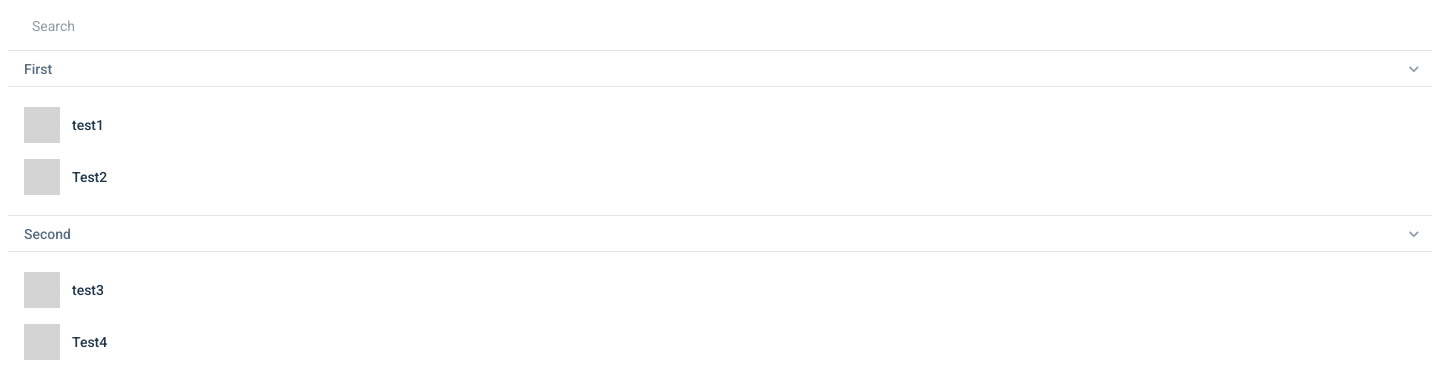
Searching is case sensitive
The width and height of the screenshot is (1440, 385).
Check: the number of buttons is 6, box [8,50,1432,87]; [16,99,1424,151]; [16,151,1424,203]; [8,215,1432,252]; [16,264,1424,316]; [16,316,1424,368]
Type "T" into the field at (724, 26), box [32,16,1416,36]
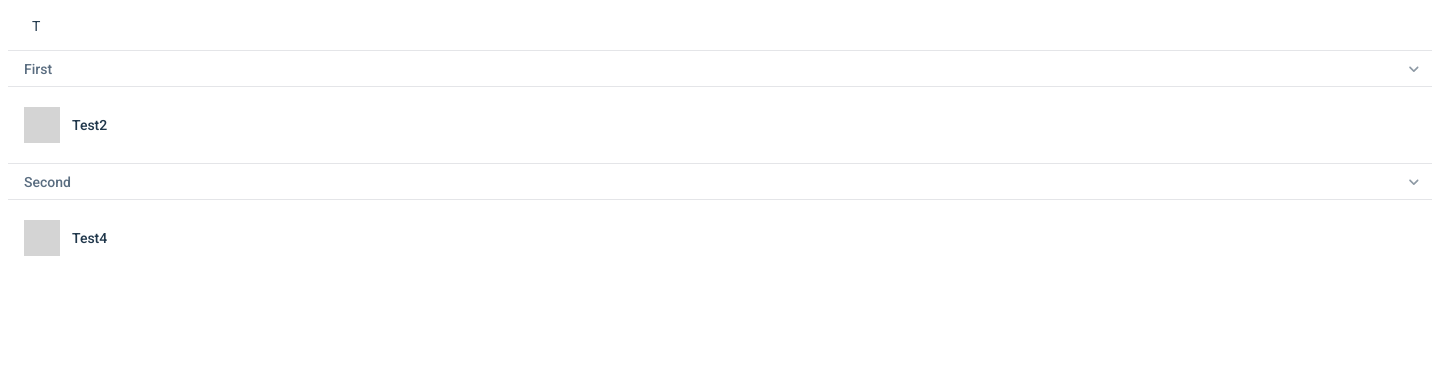
Check: the text "Test2" is shown, box [72,115,107,135]
Check: the text "Test4" is shown, box [72,228,107,248]
Check: the button "test1" is gone
